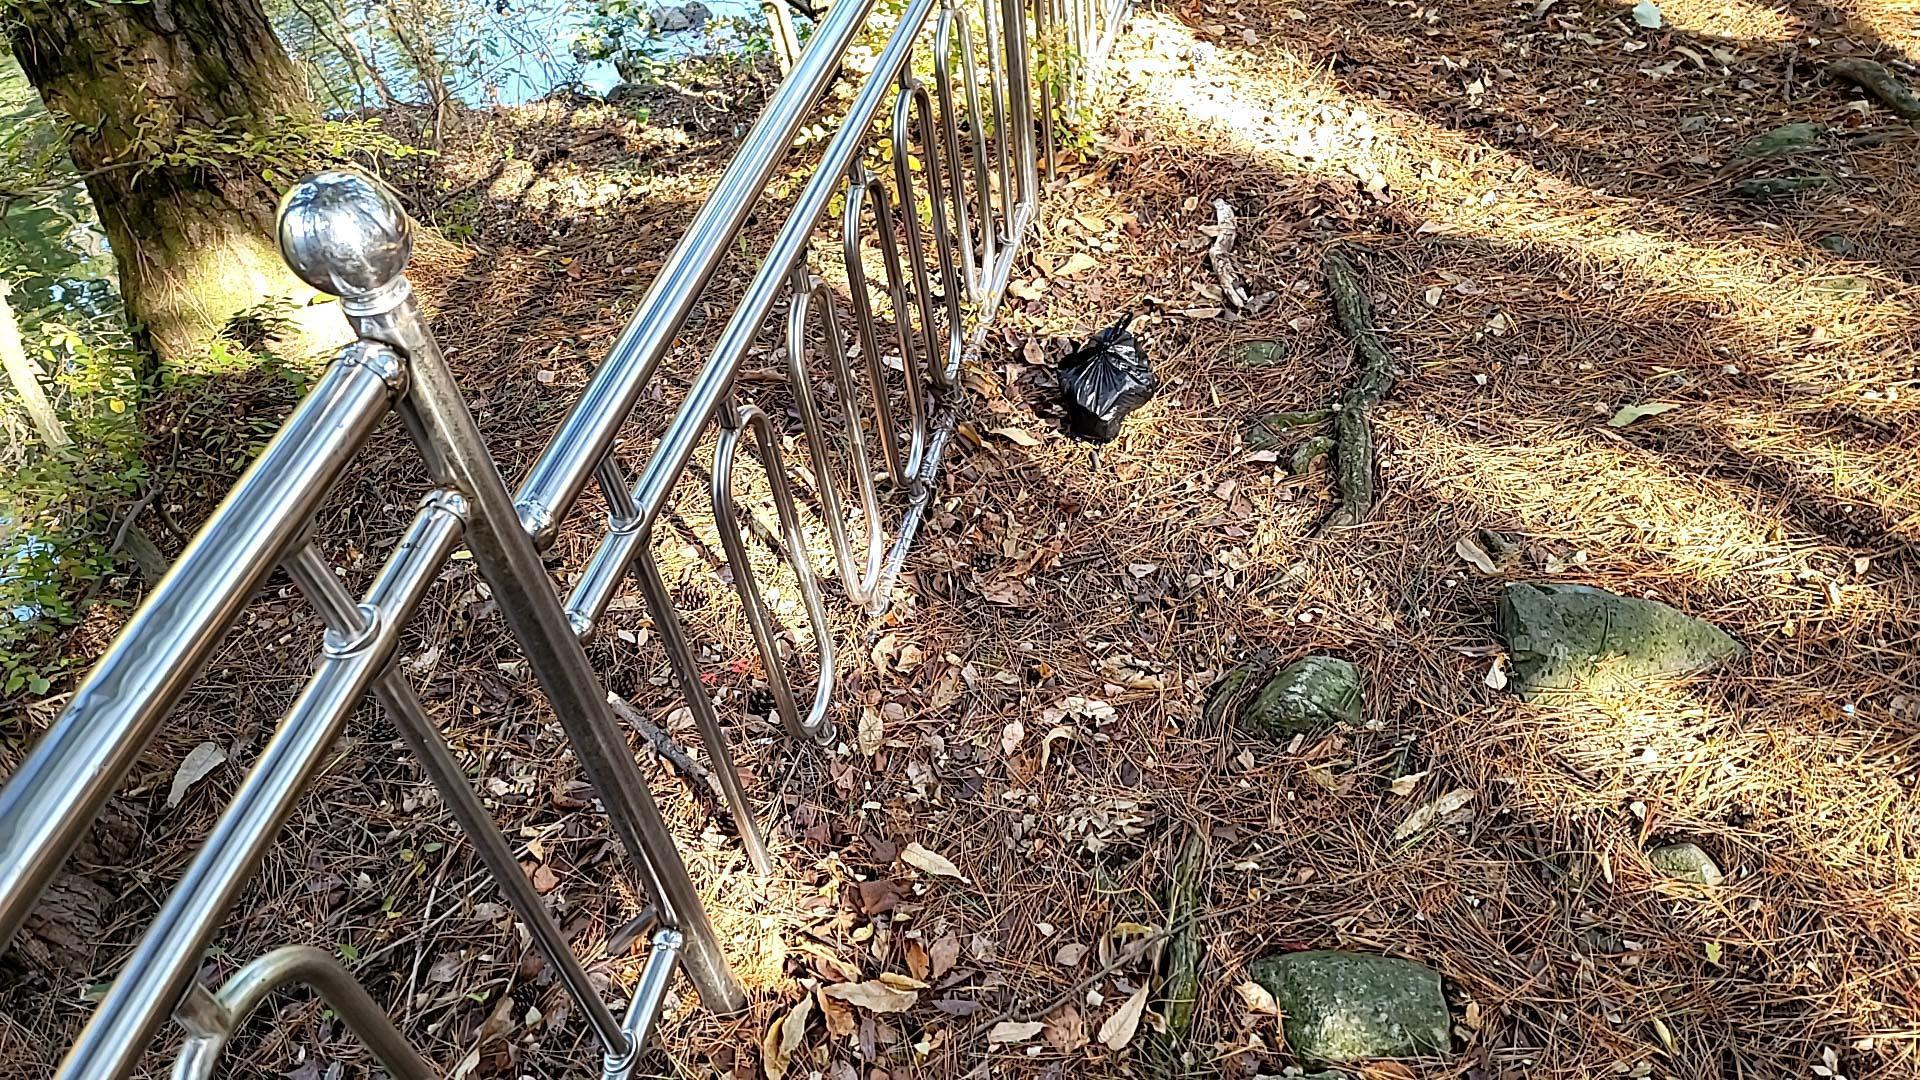black_bag: (1048, 301, 1167, 450)
